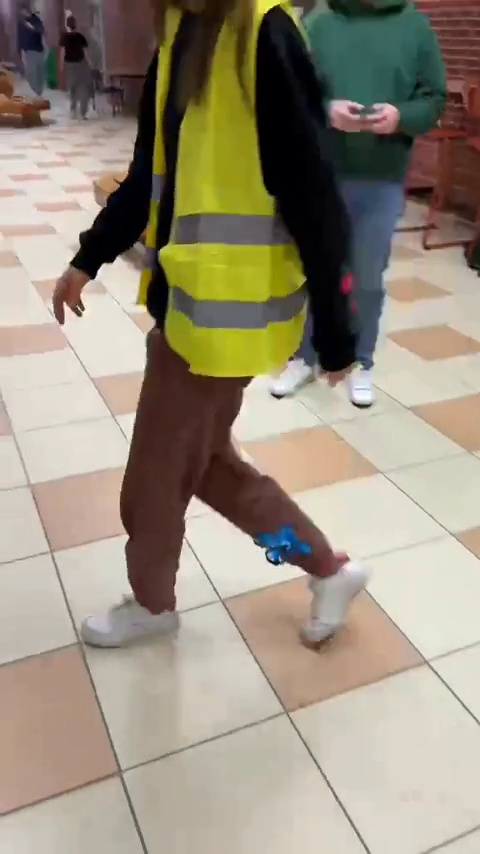drone: (252, 527, 313, 565)
no vest: (308, 2, 442, 409), (57, 10, 111, 125), (15, 8, 52, 105)
vest: (134, 3, 318, 626)
